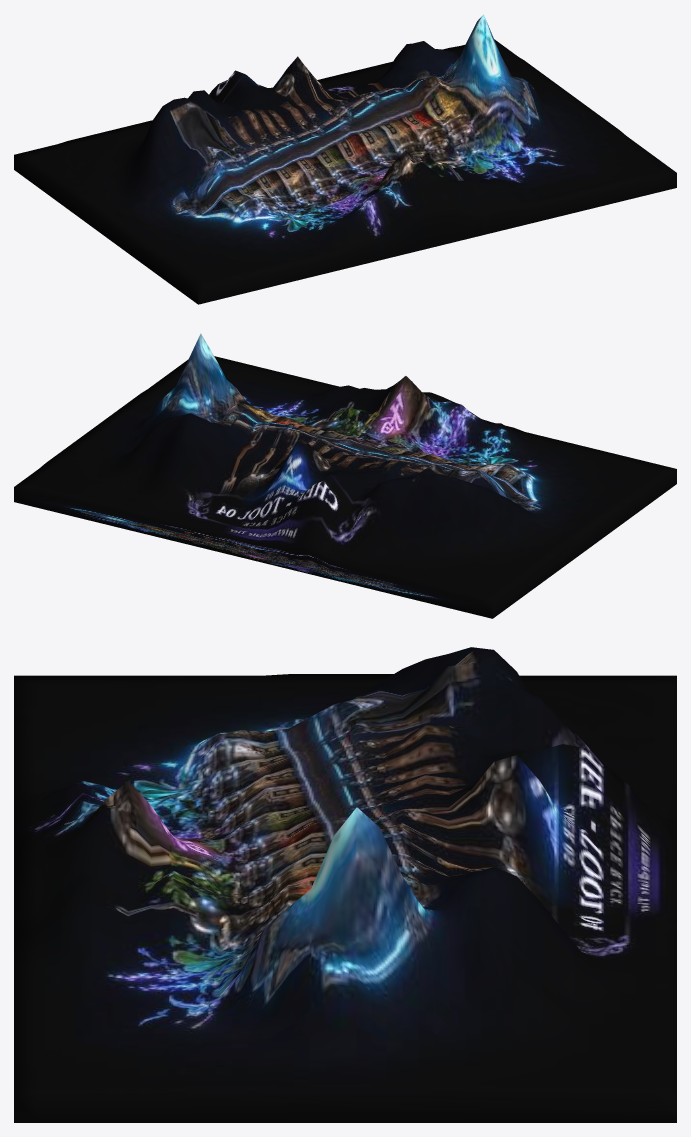
The model's file is CAREER_05_Tool_04_Spice_Rack.glb.
The picture shows the model from 3 angles, top to bottom: view 1: azimuth 30°, elevation 25°; view 2: azimuth 150°, elevation 25°; view 3: azimuth 270°, elevation 25°; orthographic projection. The views are drawn at different scales.
Parts seen in each view (by area): view 1: CAREER_05_Tool_04_Spice_Rack; view 2: CAREER_05_Tool_04_Spice_Rack; view 3: CAREER_05_Tool_04_Spice_Rack.
Boxes of the visible parts, x1=… form: CAREER_05_Tool_04_Spice_Rack: x1=14, y1=14, x2=676, y2=304; CAREER_05_Tool_04_Spice_Rack: x1=14, y1=333, x2=676, y2=618; CAREER_05_Tool_04_Spice_Rack: x1=14, y1=647, x2=676, y2=1122.
Size of the model in its own units: 2 by 0.51 by 1.33.
1 material, 1 textured.
